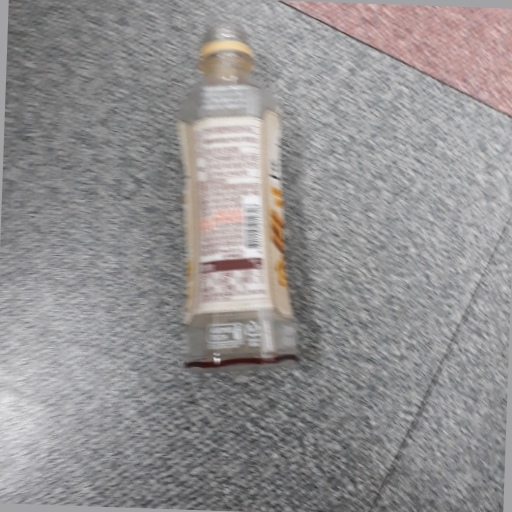Plastic_0: (178, 17, 300, 369)
